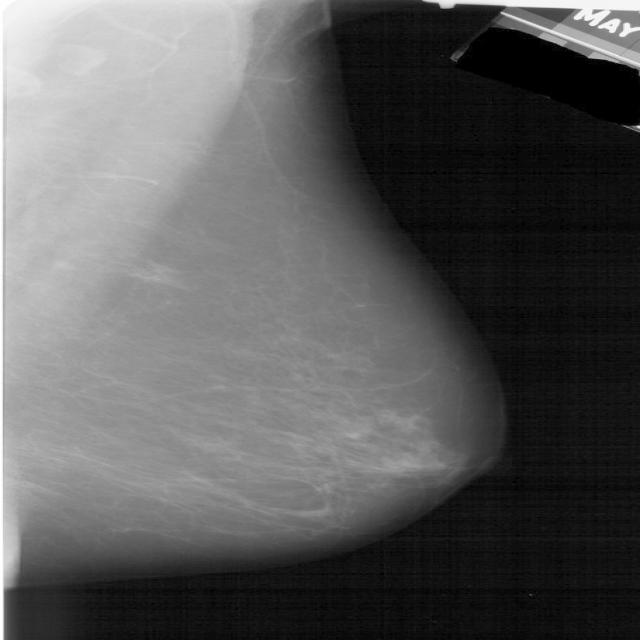tumour: (117, 259, 183, 286)
